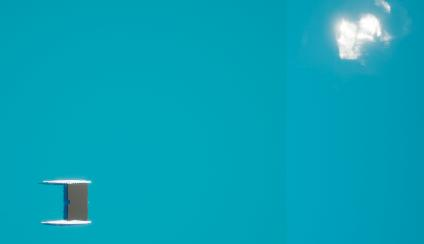boat: (41, 178, 93, 229)
drone: (68, 184, 88, 221)
land_base: (301, 1, 424, 73)
